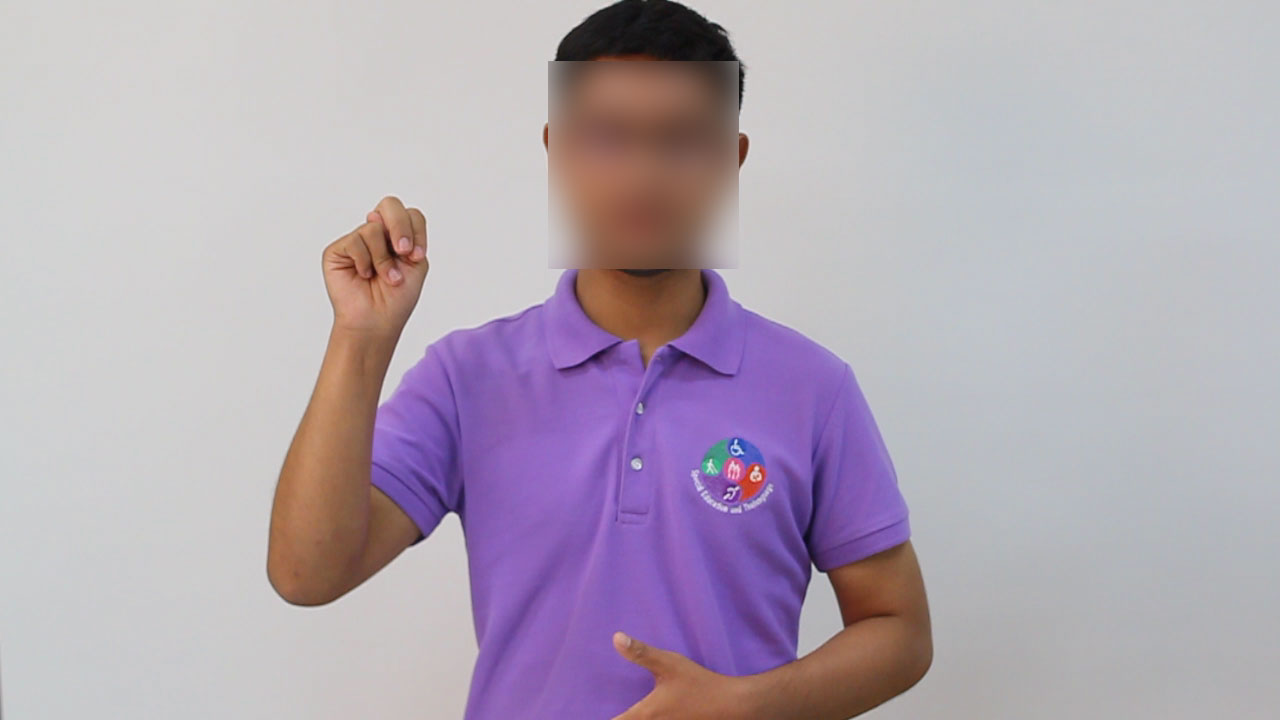nor: (305, 186, 440, 344)
